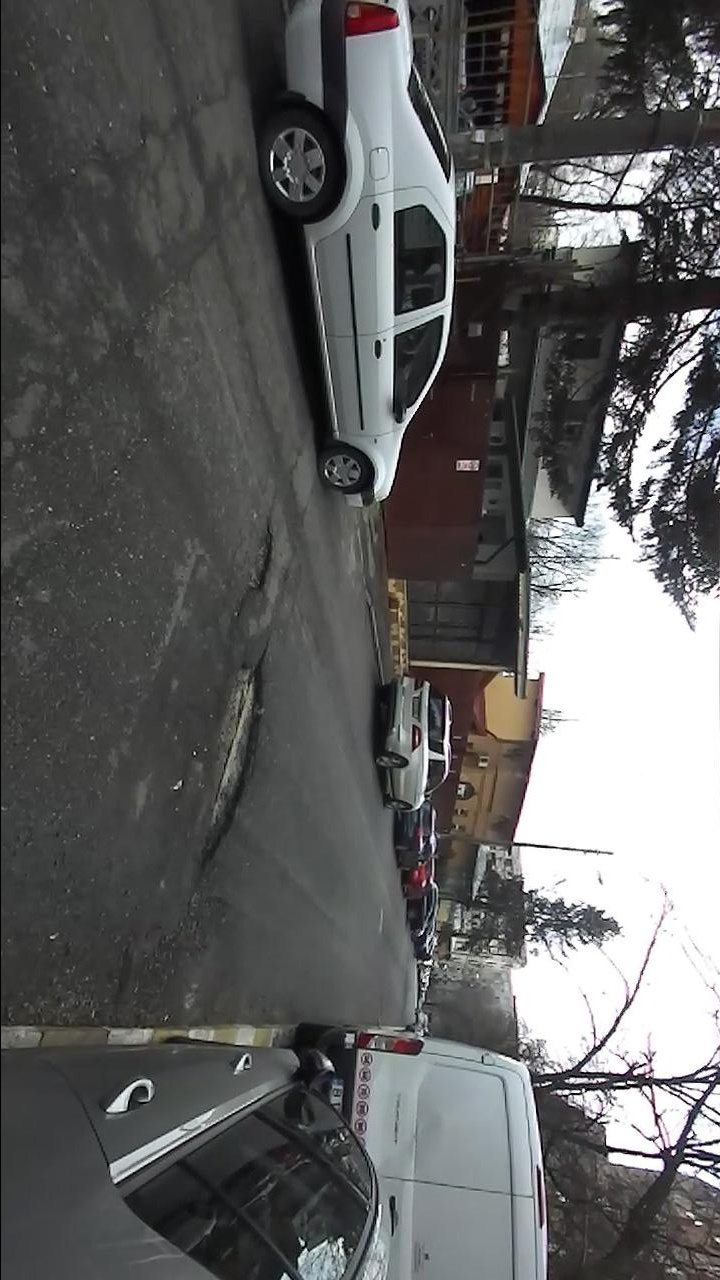pothole: (188, 637, 274, 886), (233, 514, 277, 623)
